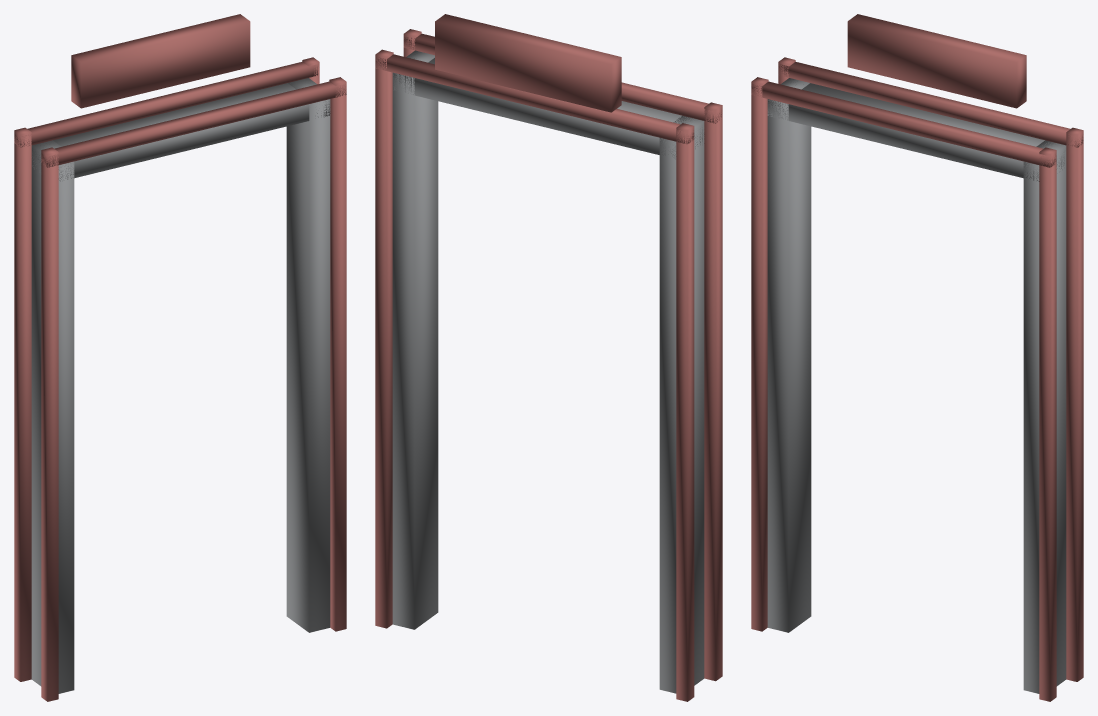
File: doorway_emergency_exit_w96_h200_d16.glb
3 renders of one model, left to right at view 1: azimuth 30°, elevation 25°; view 2: azimuth 150°, elevation 25°; view 3: azimuth 330°, elevation 25°, orthographic. The views are drawn at different scales.
Parts seen in each view (by area): view 1: world; view 2: world; view 3: world.
Boxes of the visible parts, x1,y1,x2,y2 form: world: (14, 14, 346, 701); world: (375, 14, 722, 701); world: (751, 14, 1083, 701).
Bounding box in the file's own units: 1.22 × 2.35 × 0.2932.
